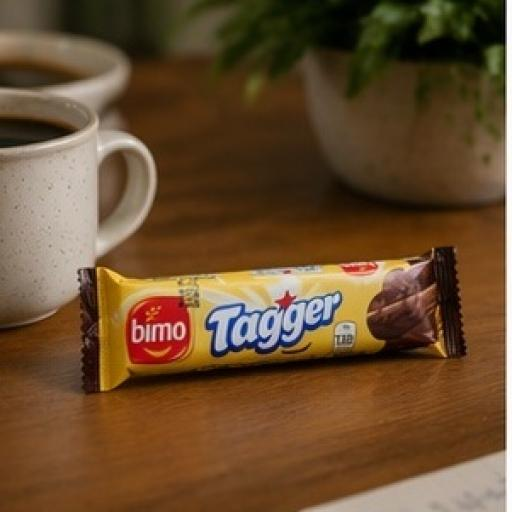tagger: (73, 179, 507, 418)
